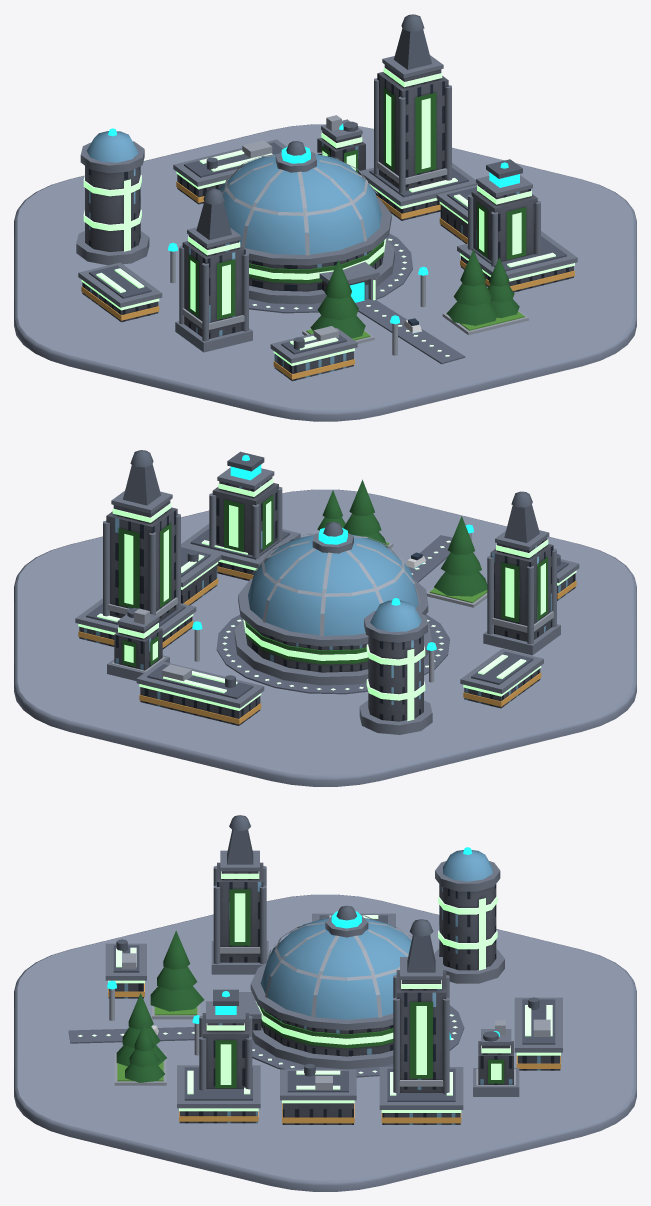
Rendered from district_scifi_b_green.glb.
The picture shows the model from 3 angles, top to bottom: view 1: azimuth 30°, elevation 25°; view 2: azimuth 150°, elevation 25°; view 3: azimuth 270°, elevation 25°; orthographic projection.
Visible parts, largest first — view 1: district_scifi_b_green; view 2: district_scifi_b_green; view 3: district_scifi_b_green.
Boxes of the visible parts, box(x1,y1,x2,y2) form: district_scifi_b_green: box(14, 14, 636, 421); district_scifi_b_green: box(14, 450, 636, 786); district_scifi_b_green: box(14, 815, 636, 1191).
Size of the model in its own units: 1.92 by 0.6033 by 1.75.
Materials: 3 (1 with a texture image).
